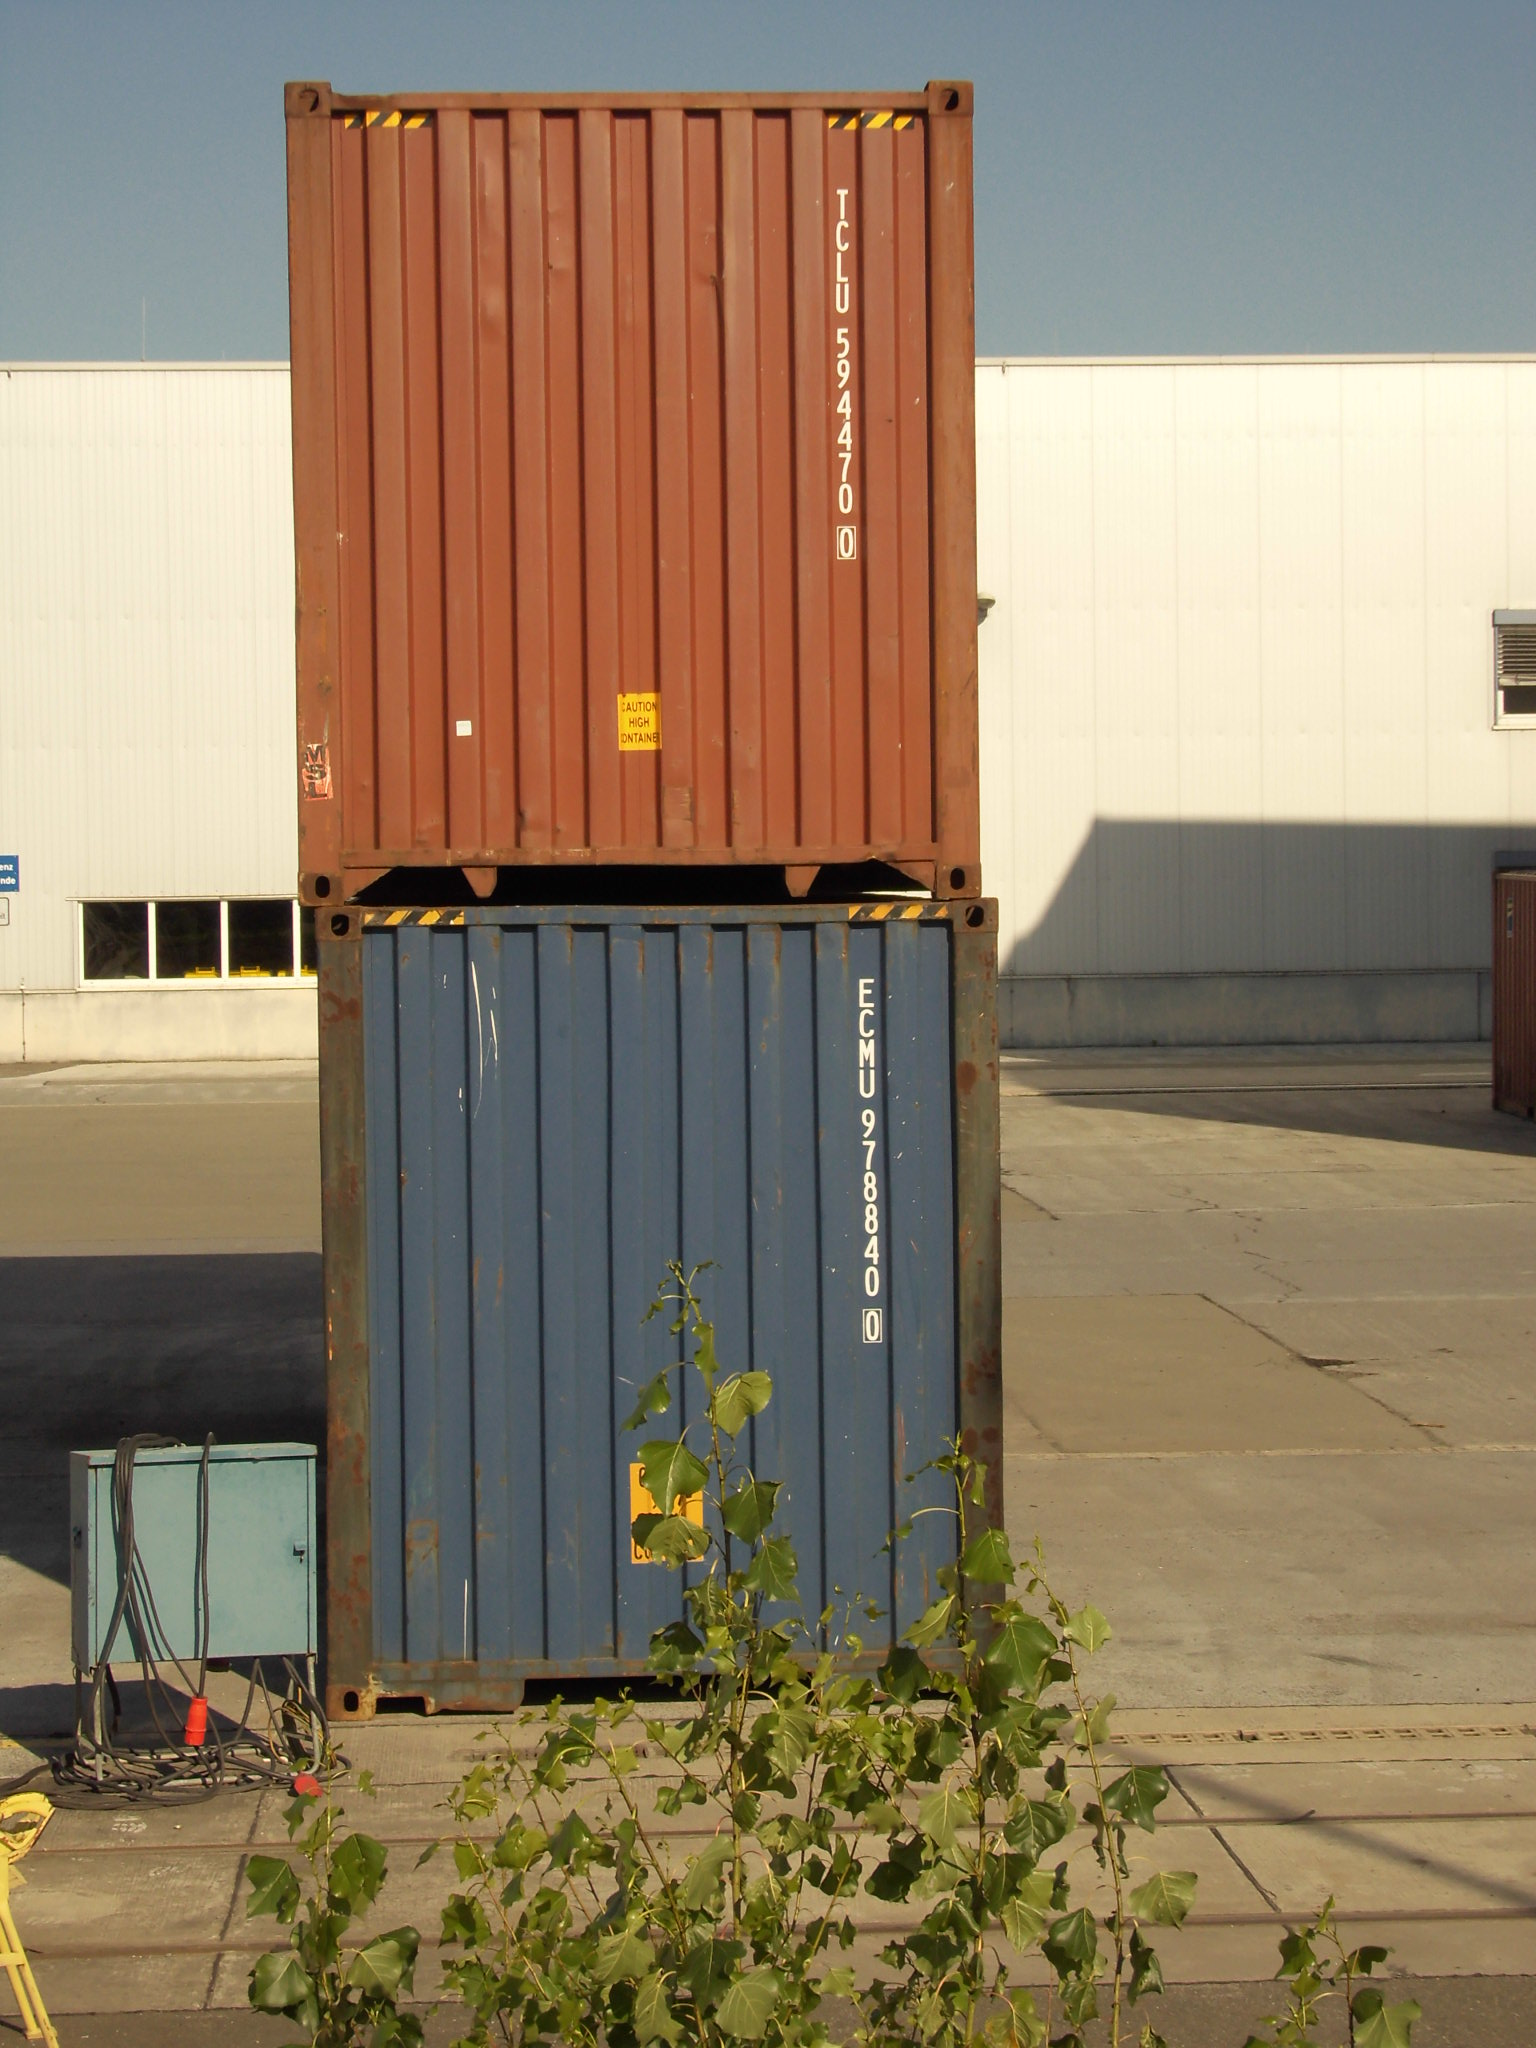container_no_door: (295, 81, 981, 910), (323, 901, 1004, 1717)
